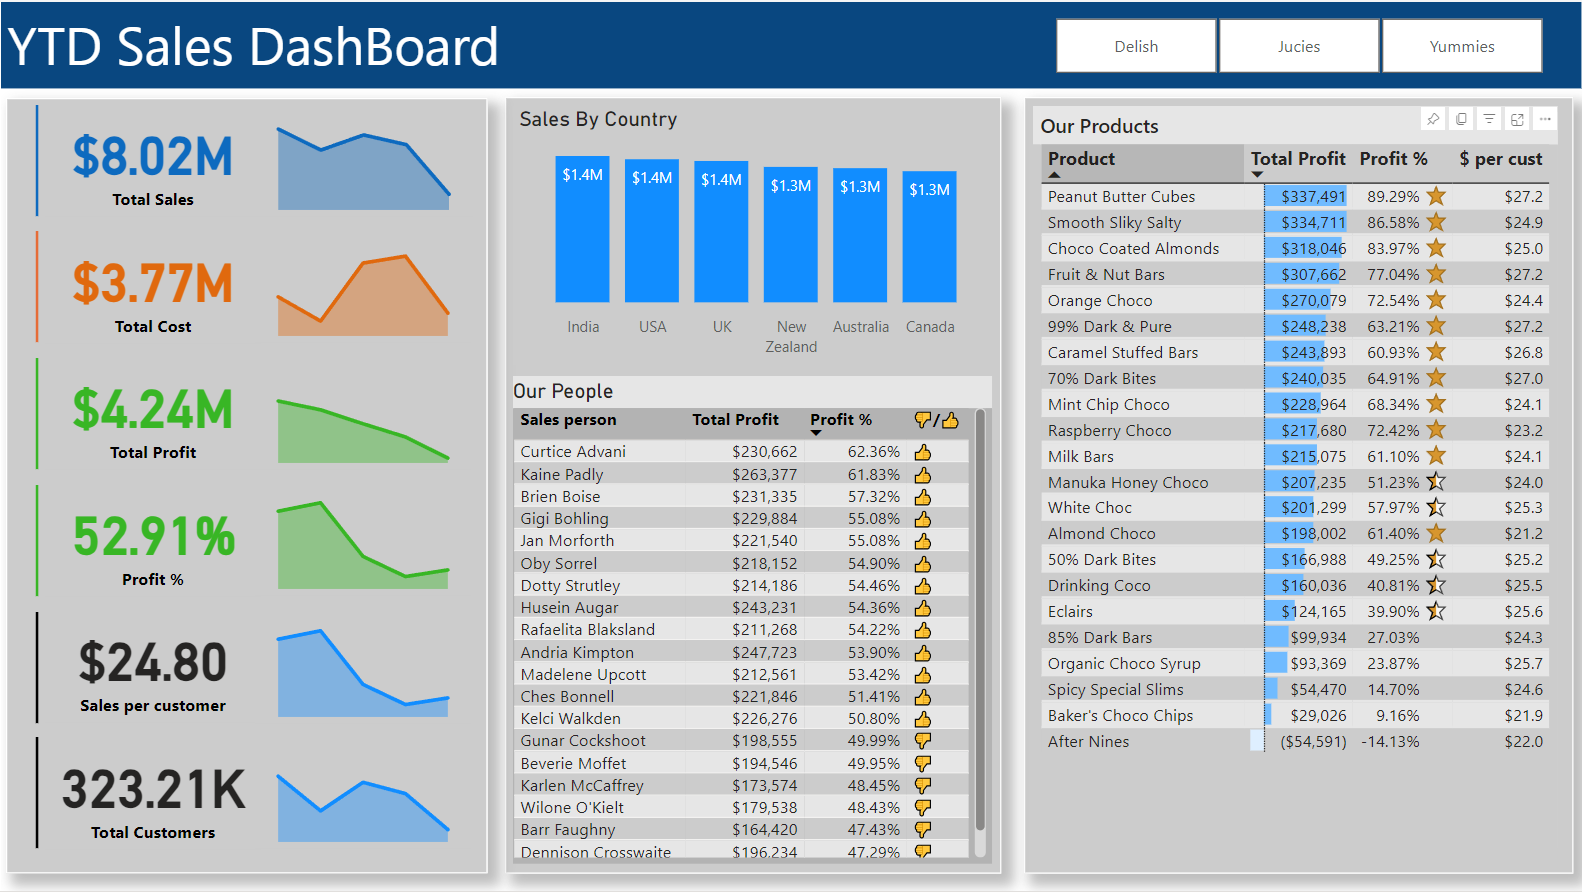

What the dashboard file says about the page in this screenshot:
{"tool":"powerbi","page":{"name":"Sales DashBoard","canvas":[1280,720],"ordinal":1},"visuals":[{"type":"shape","box":[828.2,76.9,444.5,628.7],"z":0},{"type":"shape","box":[408.2,76.9,402.3,628.7],"z":1000},{"type":"shape","box":[4.2,77.7,390.4,627.9],"z":2000},{"type":"card","fields":{"Values":["Report Measures.Total Sales"]},"box":[35.9,83.4,175.4,90],"z":3000},{"type":"card","fields":{"Values":["Report Measures.Total Profit"]},"box":[35.9,288.3,175.4,90],"z":4000},{"type":"tableEx","title":"   Our People","fields":{"Values":["people.Sales person","Report Measures.Total Profit","Report Measures.Profit %","Report Measures.Profit Target Met"]},"box":[414.9,302.5,387.9,394.6],"z":5000},{"type":"card","fields":{"Values":["Report Measures.Total Cost"]},"box":[35.9,185.9,175.4,90],"z":6000},{"type":"card","fields":{"Values":["Report Measures.Profit %"]},"box":[35.9,390.8,175.4,90],"z":7000},{"type":"tableEx","title":"Our Products","fields":{"Values":["products.Product","Report Measures.Total Profit","Report Measures.Profit %","Report Measures.Sales per customer"]},"box":[835.5,84.5,425.5,600.9],"z":8000},{"type":"areaChart","fields":{"Category":["sales.Date.Variation.Date Hierarchy.Year","sales.Date.Variation.Date Hierarchy.Quarter","sales.Date.Variation.Date Hierarchy.Month","sales.Date.Variation.Date Hierarchy.Day"],"Y":["Report Measures.Total Sales"]},"box":[205.5,83.6,176.4,90],"z":9000},{"type":"textbox","box":[0,0,1280,70],"z":10000},{"type":"areaChart","fields":{"Category":["sales.Date.Variation.Date Hierarchy.Year","sales.Date.Variation.Date Hierarchy.Quarter","sales.Date.Variation.Date Hierarchy.Month","sales.Date.Variation.Date Hierarchy.Day"],"Y":["Report Measures.Total Profit"]},"box":[205.5,288.2,175.5,90],"z":11000},{"type":"areaChart","fields":{"Category":["sales.Date.Variation.Date Hierarchy.Year","sales.Date.Variation.Date Hierarchy.Quarter","sales.Date.Variation.Date Hierarchy.Month","sales.Date.Variation.Date Hierarchy.Day"],"Y":["Report Measures.Total Cost"]},"box":[205.5,185.5,175.5,90],"z":12000},{"type":"areaChart","fields":{"Category":["sales.Date.Variation.Date Hierarchy.Year","sales.Date.Variation.Date Hierarchy.Quarter","sales.Date.Variation.Date Hierarchy.Month","sales.Date.Variation.Date Hierarchy.Day"],"Y":["Report Measures.Profit %"]},"box":[205.5,390.3,175.5,90],"z":13000},{"type":"card","fields":{"Values":["Report Measures.Sales per customer"]},"box":[35.9,493.3,175.4,90],"z":14000},{"type":"areaChart","fields":{"Category":["sales.Date.Variation.Date Hierarchy.Year","sales.Date.Variation.Date Hierarchy.Quarter","sales.Date.Variation.Date Hierarchy.Month","sales.Date.Variation.Date Hierarchy.Day"],"Y":["Report Measures.Profit %"]},"box":[205.5,493.6,175.5,90],"z":15000},{"type":"card","fields":{"Values":["Report Measures.Total Customers"]},"box":[35.9,595.7,175.4,90],"z":16000},{"type":"areaChart","fields":{"Category":["sales.Date.Variation.Date Hierarchy.Year","sales.Date.Variation.Date Hierarchy.Quarter","sales.Date.Variation.Date Hierarchy.Month","sales.Date.Variation.Date Hierarchy.Day"],"Y":["Report Measures.Total Customers"]},"box":[205.5,595.5,175.5,90],"z":17000},{"type":"shape","box":[22.7,83.6,12.7,90],"z":18000},{"type":"shape","box":[22.7,185.5,12.7,90],"z":19000},{"type":"shape","box":[22.7,288.2,12.7,90],"z":20000},{"type":"shape","box":[22.7,390.9,12.7,90],"z":21000},{"type":"shape","box":[22.7,493.6,12.7,90],"z":22000},{"type":"shape","box":[22.7,595.5,12.7,90],"z":23000},{"type":"columnChart","title":"Sales By Country","fields":{"Category":["locations.Geo"],"Y":["Report Measures.Total Sales"]},"box":[414.5,84.5,388.2,210],"z":24000},{"type":"slicer","fields":{"Values":["people.Team"]},"box":[828.3,6.7,444.2,57.5],"z":25000}]}

Visuals, with their boxes in screenshot pixels (x1, y1, x2, y2), scaled from the page's 1280x720 canvas onto the 1582x892 screenshot:
shape: left=1024, top=95, right=1573, bottom=874
shape: left=505, top=95, right=1002, bottom=874
shape: left=5, top=96, right=488, bottom=874
card - Report Measures.Total Sales: left=44, top=103, right=261, bottom=215
card - Report Measures.Total Profit: left=44, top=357, right=261, bottom=469
"   Our People" tableEx: left=513, top=375, right=992, bottom=864
card - Report Measures.Total Cost: left=44, top=230, right=261, bottom=342
card - Report Measures.Profit %: left=44, top=484, right=261, bottom=596
"Our Products" tableEx: left=1033, top=105, right=1559, bottom=849
areaChart - sales.Date.Variation.Date Hierarchy.Year x sales.Date.Variation.Date Hierarchy.Quarter: left=254, top=104, right=472, bottom=215
textbox: left=0, top=0, right=1581, bottom=87
areaChart - sales.Date.Variation.Date Hierarchy.Year x sales.Date.Variation.Date Hierarchy.Quarter: left=254, top=357, right=471, bottom=469
areaChart - sales.Date.Variation.Date Hierarchy.Year x sales.Date.Variation.Date Hierarchy.Quarter: left=254, top=230, right=471, bottom=341
areaChart - sales.Date.Variation.Date Hierarchy.Year x sales.Date.Variation.Date Hierarchy.Quarter: left=254, top=484, right=471, bottom=595
card - Report Measures.Sales per customer: left=44, top=611, right=261, bottom=723
areaChart - sales.Date.Variation.Date Hierarchy.Year x sales.Date.Variation.Date Hierarchy.Quarter: left=254, top=612, right=471, bottom=723
card - Report Measures.Total Customers: left=44, top=738, right=261, bottom=850
areaChart - sales.Date.Variation.Date Hierarchy.Year x sales.Date.Variation.Date Hierarchy.Quarter: left=254, top=738, right=471, bottom=849
shape: left=28, top=104, right=44, bottom=215
shape: left=28, top=230, right=44, bottom=341
shape: left=28, top=357, right=44, bottom=469
shape: left=28, top=484, right=44, bottom=596
shape: left=28, top=612, right=44, bottom=723
shape: left=28, top=738, right=44, bottom=849
"Sales By Country" columnChart: left=512, top=105, right=992, bottom=365
slicer - people.Team: left=1024, top=8, right=1573, bottom=80
